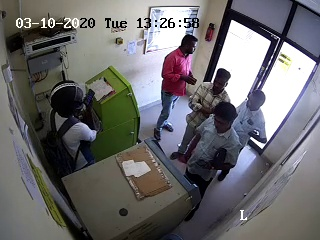helmet: (49, 79, 93, 118)
